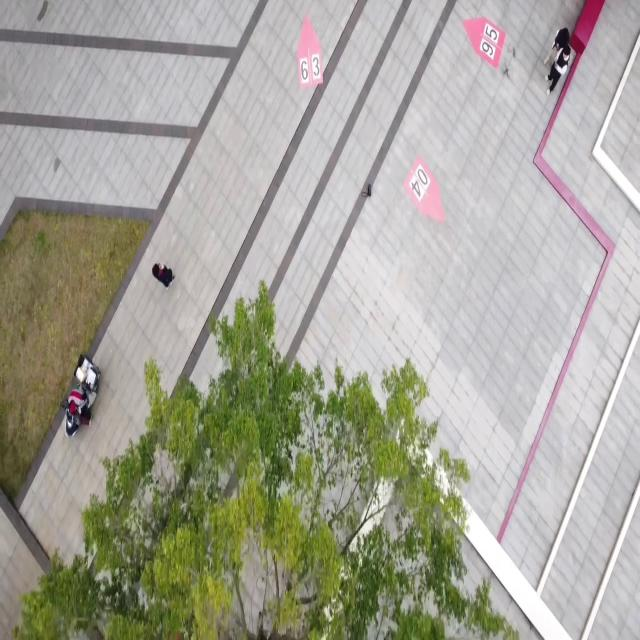-sign-: (398, 150, 452, 227), (287, 10, 332, 96), (462, 15, 506, 69)
